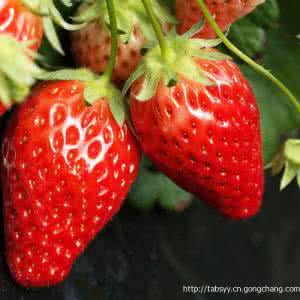strawberry: (6, 68, 139, 285), (134, 36, 274, 219), (68, 1, 175, 81), (1, 1, 44, 114), (173, 1, 263, 48)
